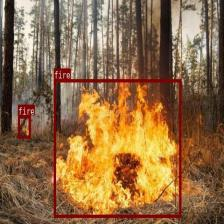fire: (53, 79, 181, 217), (18, 115, 30, 138)
